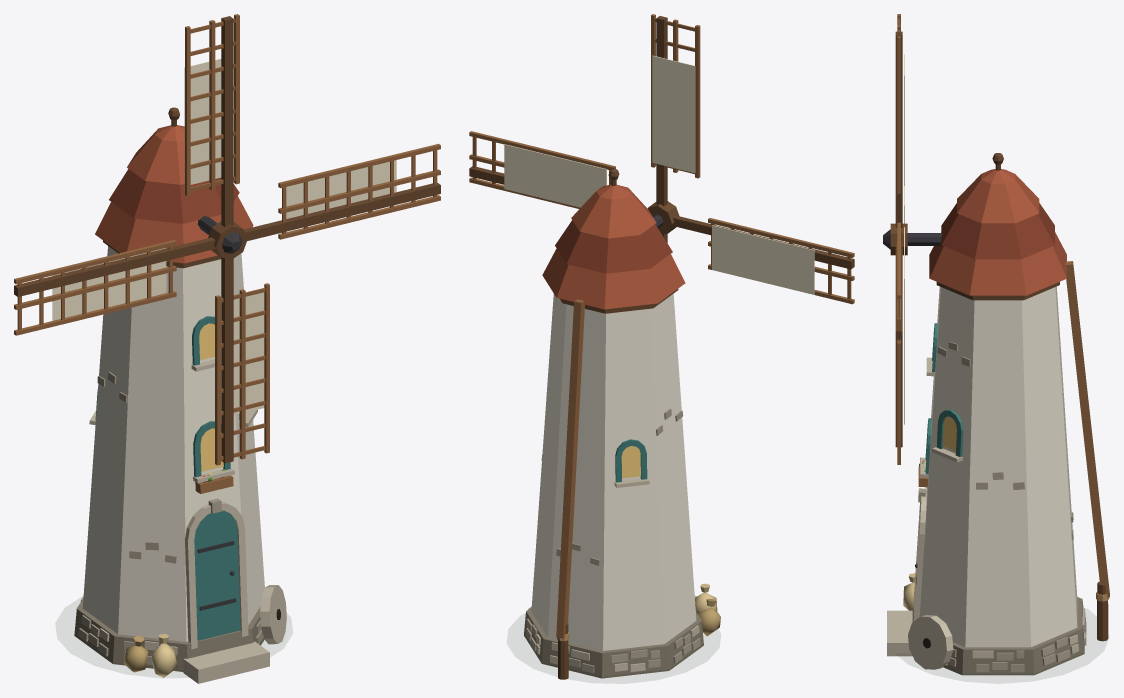
File: windmill.glb
The picture shows the model from 3 angles, left to right: view 1: azimuth 30°, elevation 25°; view 2: azimuth 150°, elevation 25°; view 3: azimuth 270°, elevation 25°; orthographic projection. The views are drawn at different scales.
Parts seen in each view (by area): view 1: windmill, sails; view 2: windmill, sails; view 3: windmill, sails.
Boxes of the visible parts, x1,y1,x2,y2 form: windmill: (74,107,286,683); sails: (14,14,440,465); windmill: (524,169,720,679); sails: (469,14,854,304); windmill: (887,153,1109,675); sails: (883,14,907,464).
Size of the model in its own units: 5.94 by 8.73 by 2.95.
